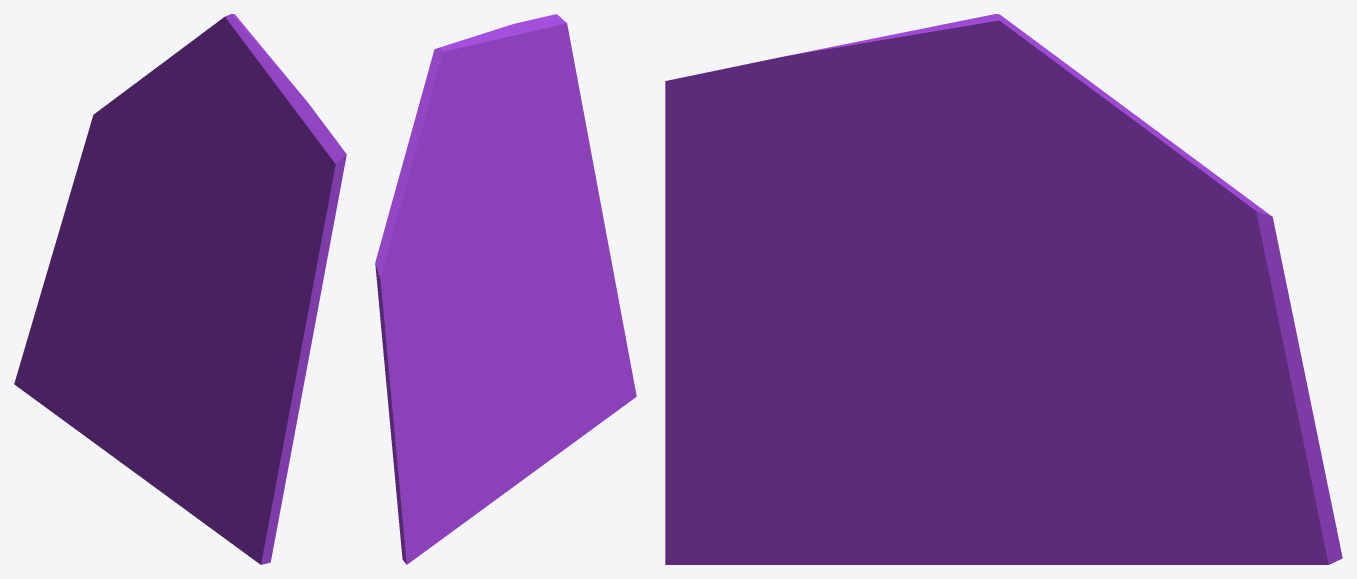
The model's file is Window_1_6_chunks.fbx.
3 views of the same model, side by side, from view 1: azimuth 30°, elevation 25°; view 2: azimuth 150°, elevation 25°; view 3: azimuth 270°, elevation 25° (orthographic). The views are drawn at different scales.
Parts seen in each view (by area): view 1: Window_1_6_35, Window_1_6_1, Window_1_6_0, Window_1_6_26, Window_1_6_14, Window_1_6_10, Window_1_6_12, Window_1_6_32, Window_1_6_15, Window_1_6_43, Window_1_6_25, Window_1_6_4 (+27 smaller); view 2: Window_1_6_35, Window_1_6_1, Window_1_6_0, Window_1_6_10, Window_1_6_12, Window_1_6_14, Window_1_6_26, Window_1_6_15, Window_1_6_32, Window_1_6_43, Window_1_6_19, Window_1_6_3 (+27 smaller); view 3: Window_1_6_35, Window_1_6_5, Window_1_6_15, Window_1_6_1, Window_1_6_14, Window_1_6_10, Window_1_6_6, Window_1_6_43, Window_1_6_26, Window_1_6_28, Window_1_6_16, Window_1_6_19 (+27 smaller).
Boxes of the visible parts, box(x1,y1,x2,y2) form: Window_1_6_35: box(170, 328, 249, 542); Window_1_6_1: box(126, 55, 202, 218); Window_1_6_0: box(201, 43, 255, 216); Window_1_6_26: box(231, 401, 274, 564); Window_1_6_14: box(84, 303, 127, 460); Window_1_6_10: box(52, 131, 119, 272); Window_1_6_12: box(14, 256, 83, 389); Window_1_6_32: box(269, 139, 346, 233); Window_1_6_15: box(22, 343, 94, 442); Window_1_6_43: box(132, 359, 177, 497); Window_1_6_25: box(280, 174, 340, 290); Window_1_6_4: box(244, 87, 305, 181); Window_1_6_35: box(518, 268, 608, 458); Window_1_6_1: box(388, 127, 488, 225); Window_1_6_0: box(449, 44, 499, 220); Window_1_6_10: box(379, 296, 425, 428); Window_1_6_12: box(390, 407, 435, 564); Window_1_6_14: box(444, 372, 504, 509); Window_1_6_26: box(577, 285, 636, 416); Window_1_6_15: box(398, 453, 481, 562); Window_1_6_32: box(522, 14, 568, 131); Window_1_6_43: box(497, 372, 551, 484); Window_1_6_19: box(375, 215, 426, 303); Window_1_6_3: box(410, 43, 466, 140); Window_1_6_35: box(763, 352, 941, 564); Window_1_6_5: box(858, 84, 1017, 253); Window_1_6_15: box(1114, 464, 1337, 564); Window_1_6_1: box(1014, 93, 1203, 229); Window_1_6_14: box(1039, 399, 1182, 564); Window_1_6_10: box(1173, 238, 1309, 408); Window_1_6_6: box(696, 40, 909, 138); Window_1_6_43: box(914, 425, 1020, 564); Window_1_6_26: box(665, 413, 785, 564); Window_1_6_28: box(665, 269, 810, 397); Window_1_6_16: box(1090, 319, 1234, 467); Window_1_6_19: box(1131, 166, 1276, 283).
Bounding box in the file's own units: 267 × 1177 × 1195.
